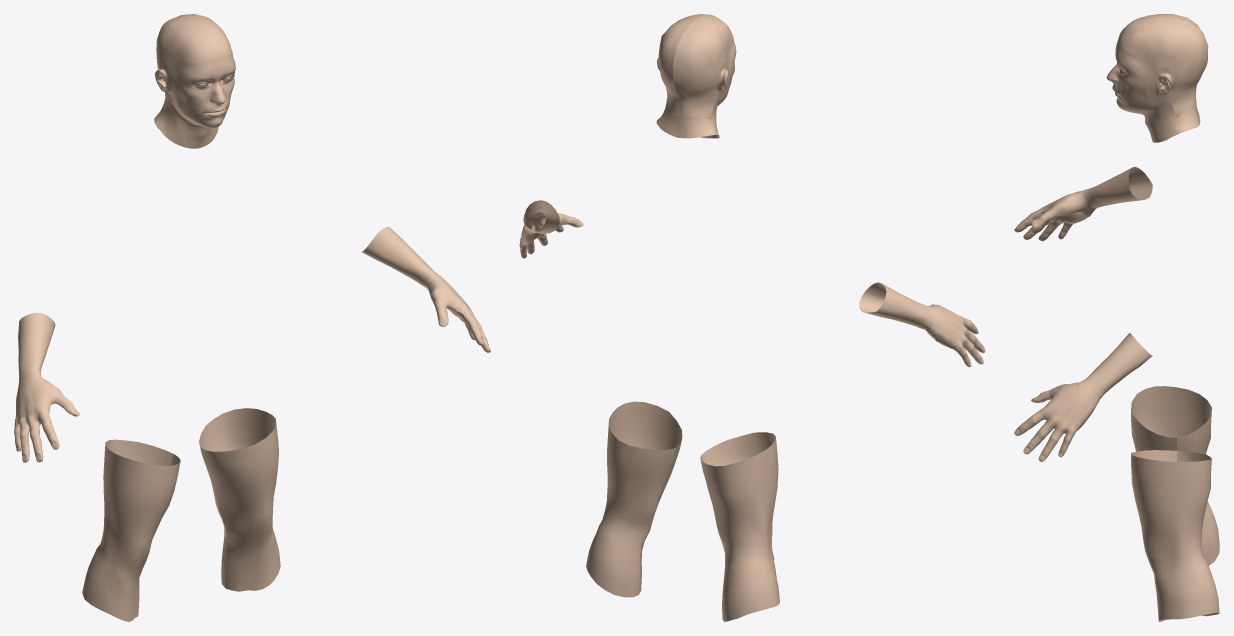
Rendered from body_formal_suit_shoes.glb.
3 renders of one model, left to right at view 1: azimuth 30°, elevation 25°; view 2: azimuth 150°, elevation 25°; view 3: azimuth 270°, elevation 25°, orthographic. The views are drawn at different scales.
Parts seen in each view (by area): view 1: Body; view 2: Body; view 3: Body.
Part boxes in pixels (<box>): Body: <box>14,14,490,621</box>; Body: <box>519,14,985,621</box>; Body: <box>1014,14,1219,621</box>.
Bounding box in the file's own units: 1.15 × 1.39 × 0.4476.
